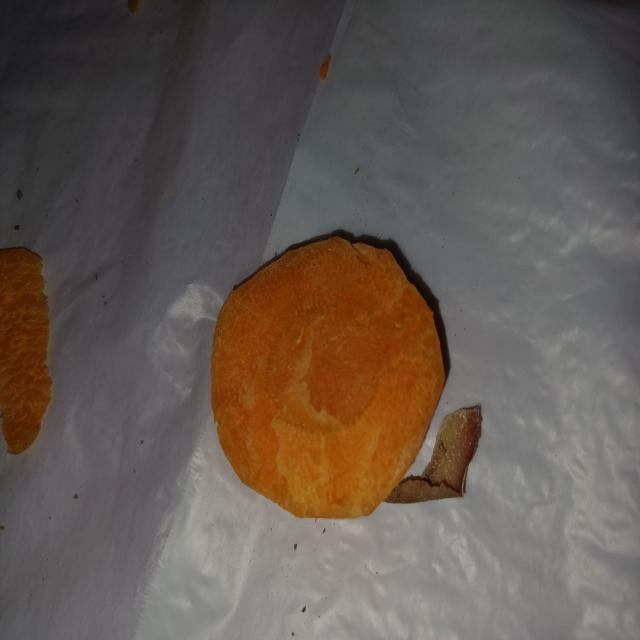organic: (213, 234, 447, 517)
